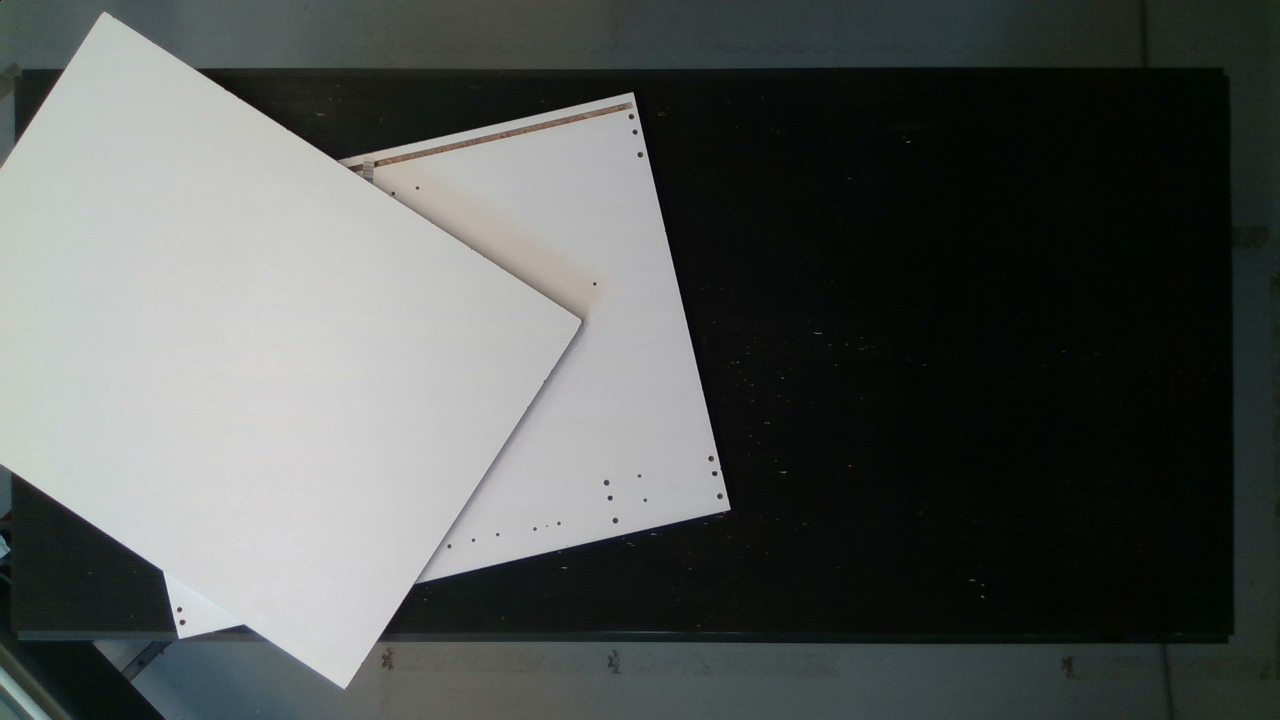part2: (3, 8, 589, 694)
